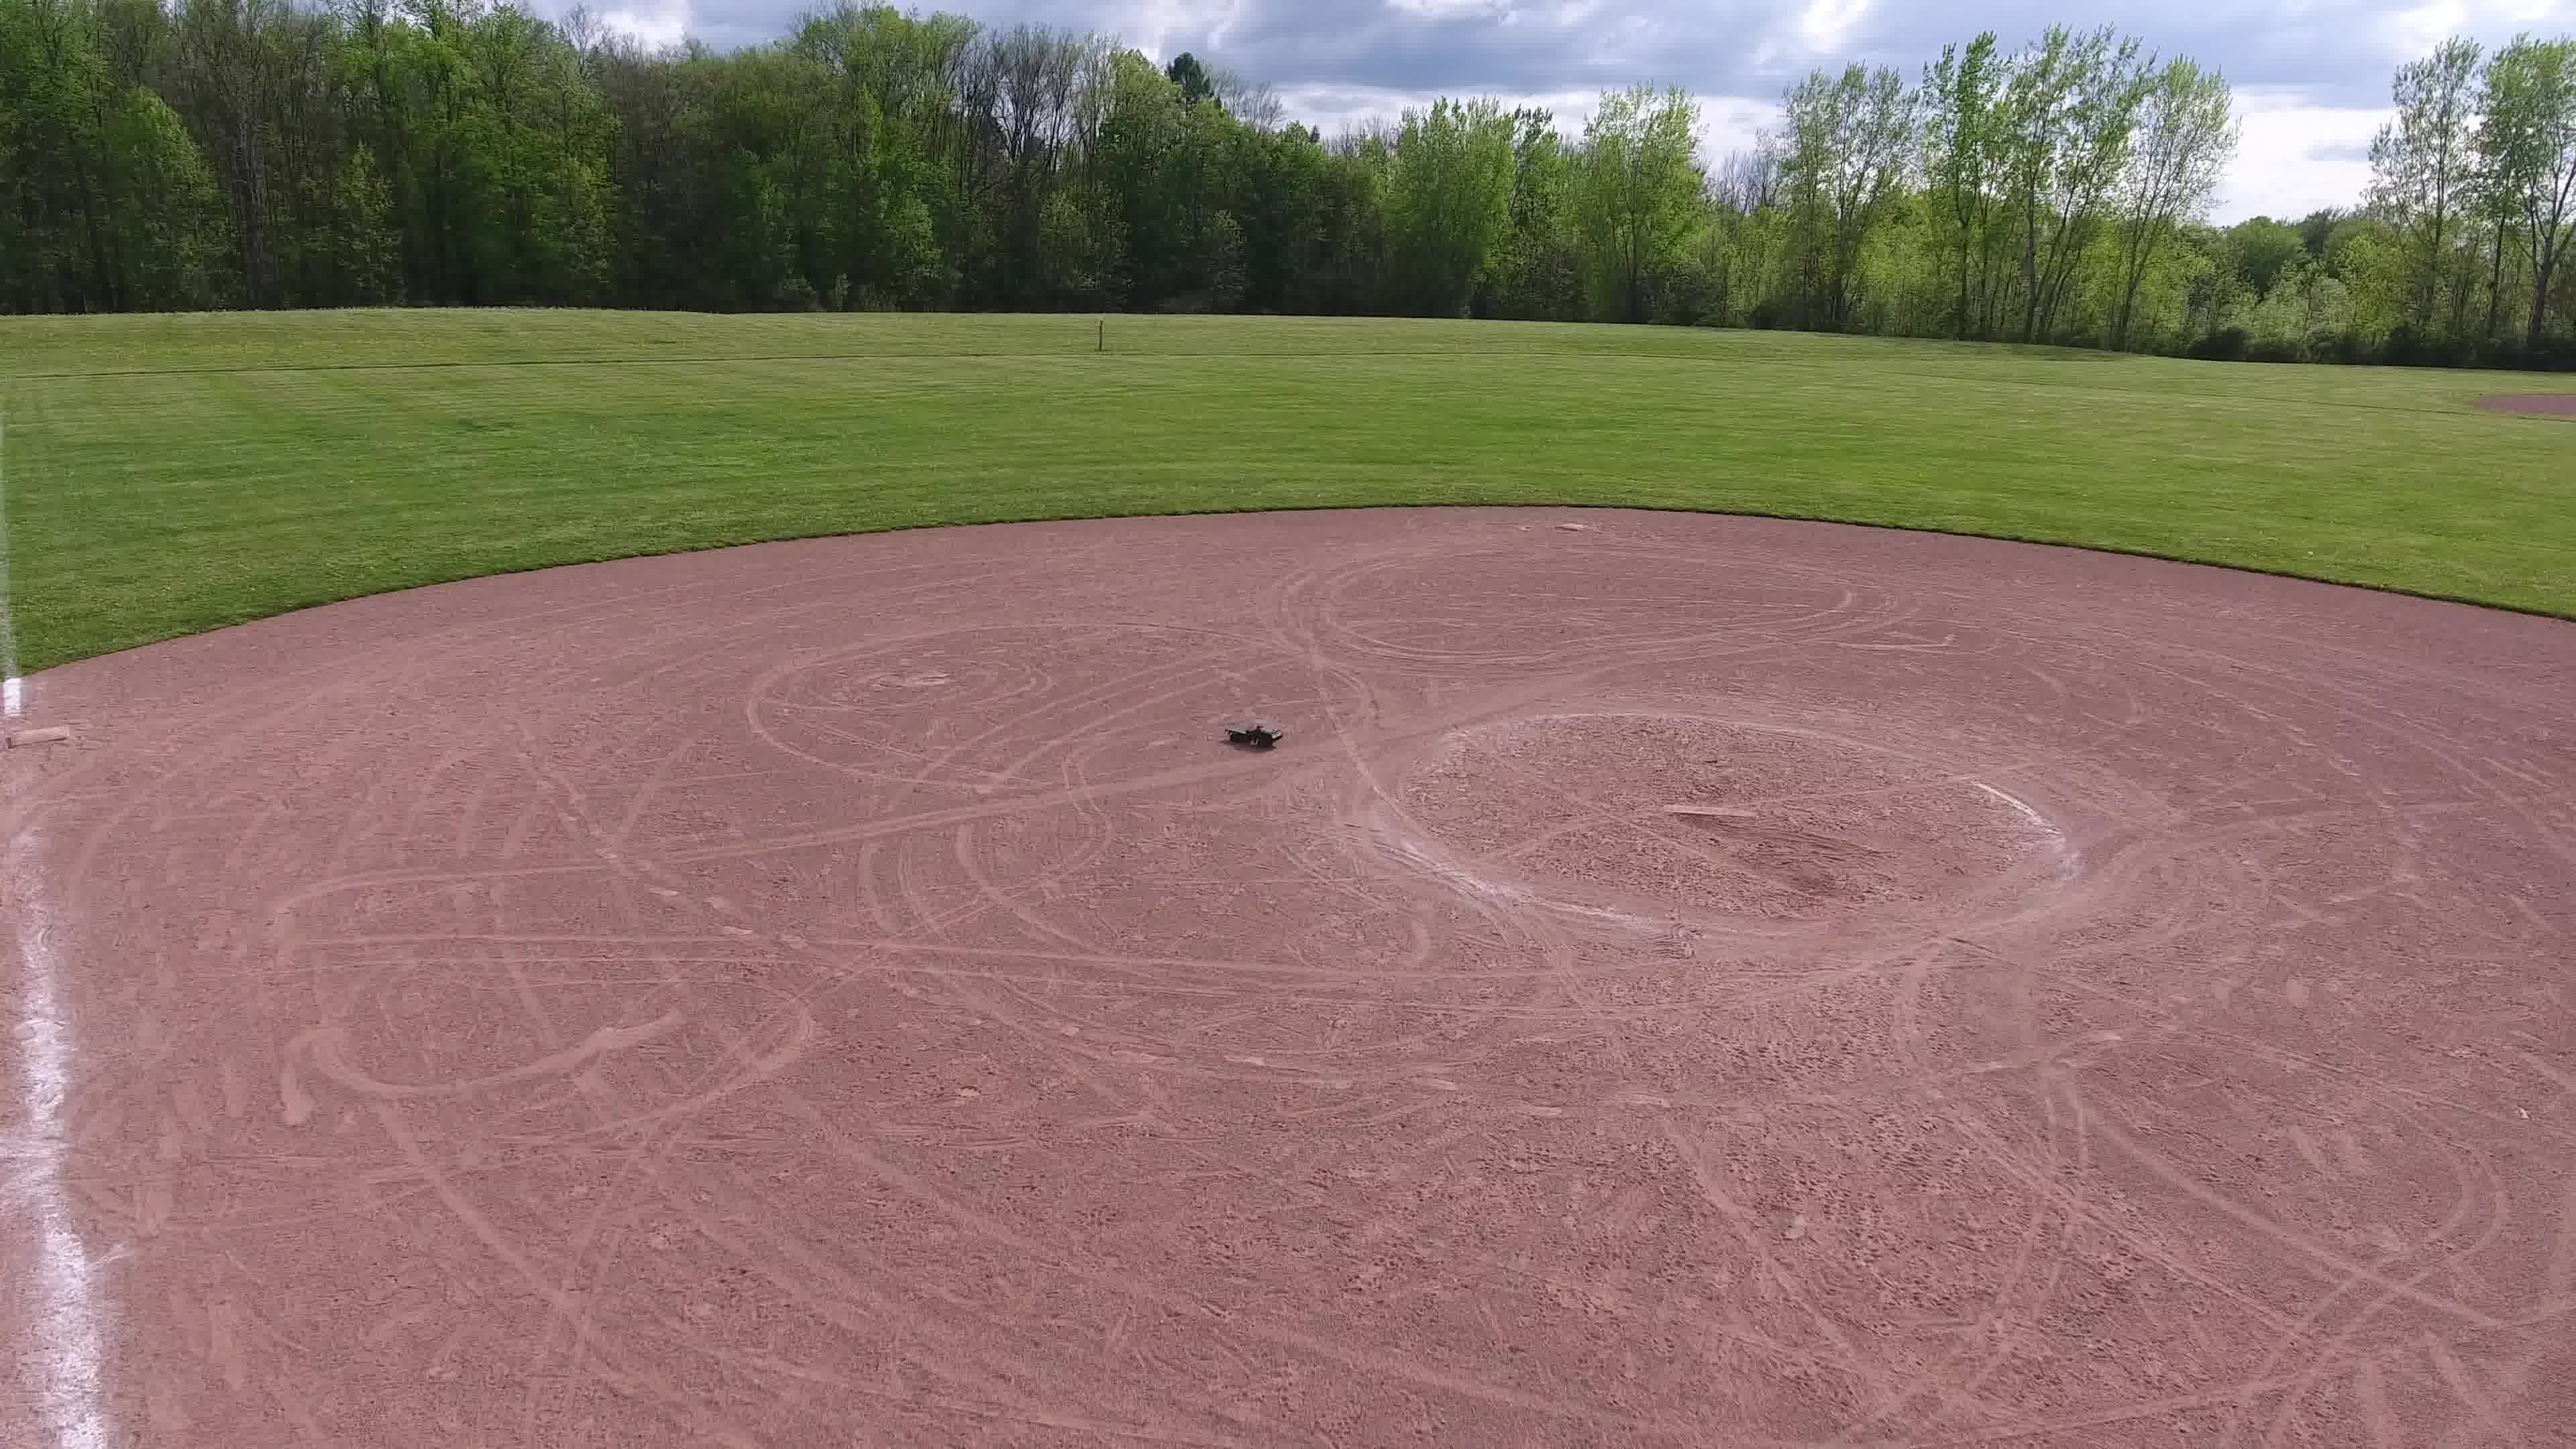transporter9: (1221, 715, 1284, 748)
